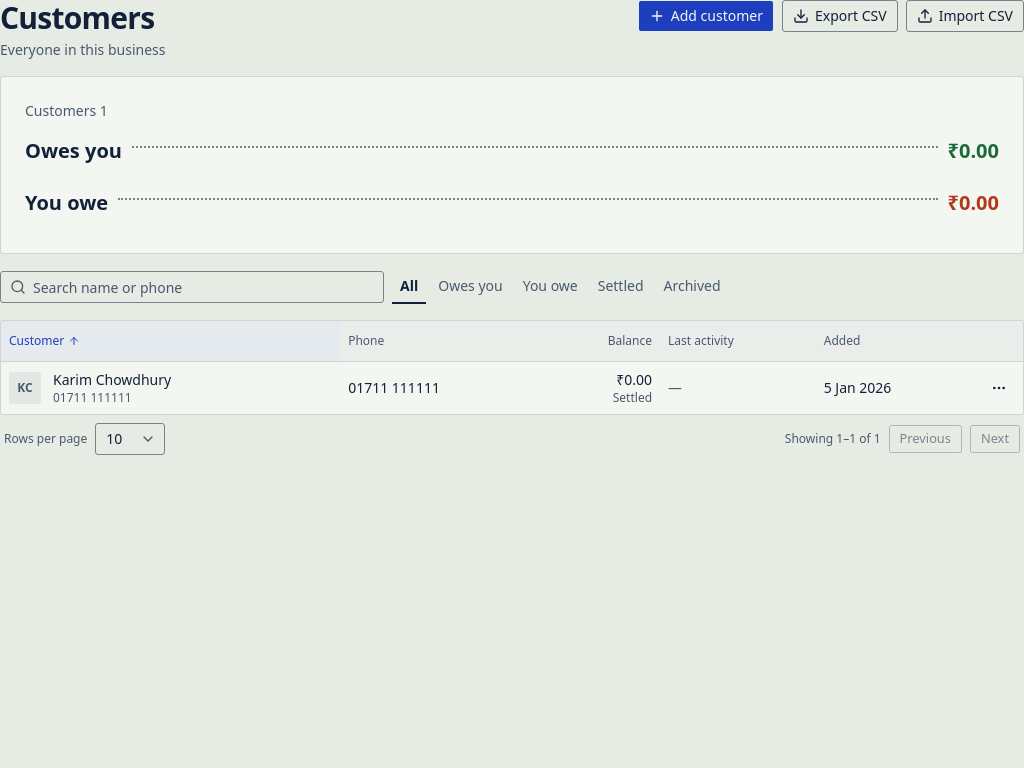
Test: S-30 archive, restore and delete › restores from the archived row's menu, taking it back out of the filter
This screenshot has width=1024, height=768.
Click the button "Archived" at (692, 287), box [656,270,729,304]
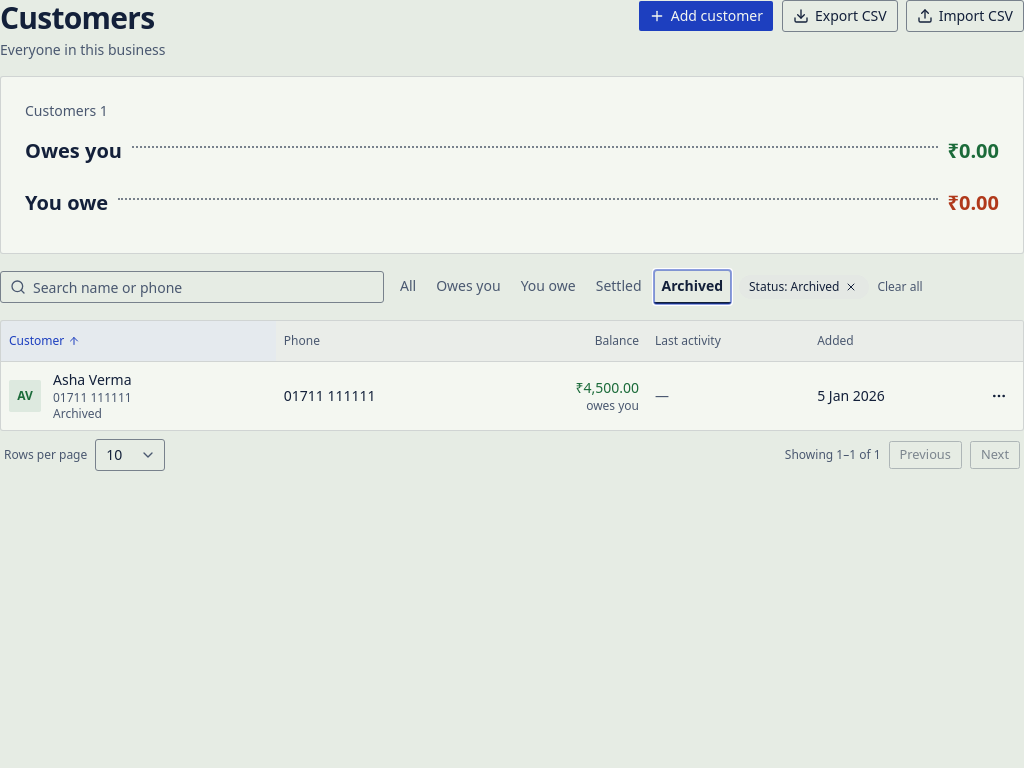
Click the button named "Actions for Asha Verma" at (999, 396), box [983,380,1015,412]
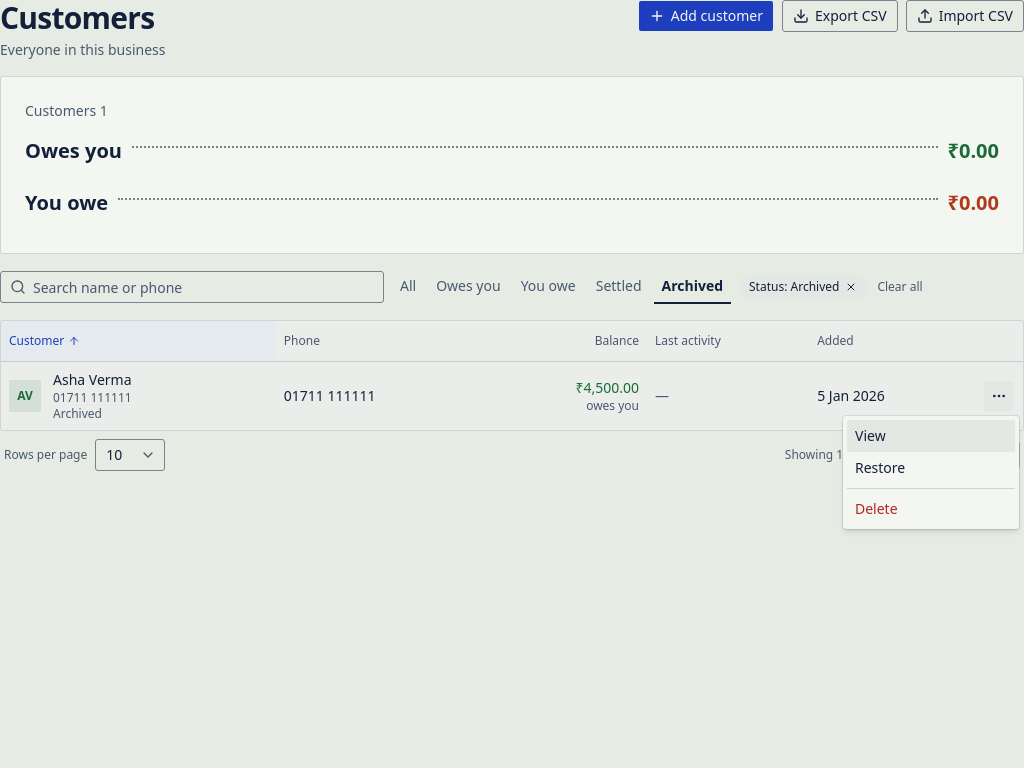
expect the menu items read "View", "Restore", "Delete", in this order: met
Click the menu item "Restore" at (931, 468), box [847,452,1015,484]
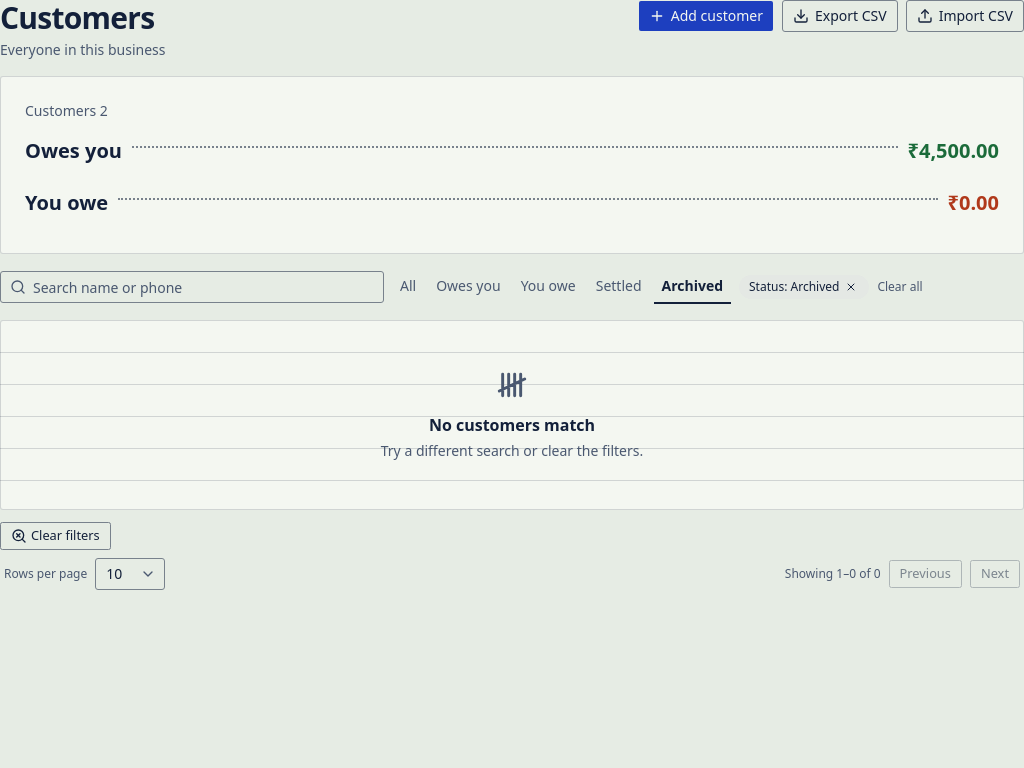
expect the text "Asha Verma" is gone: met
